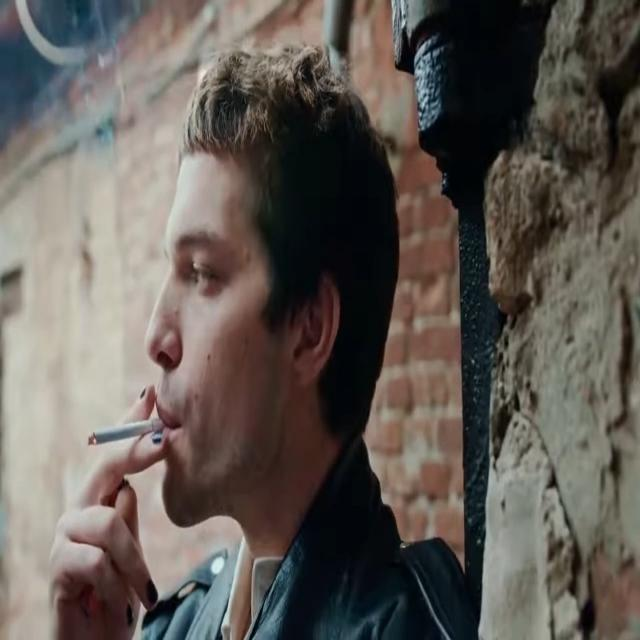Курение: (81, 415, 180, 450)
